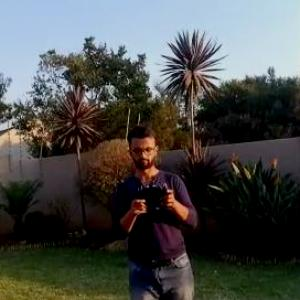follow: (107, 116, 208, 299)
